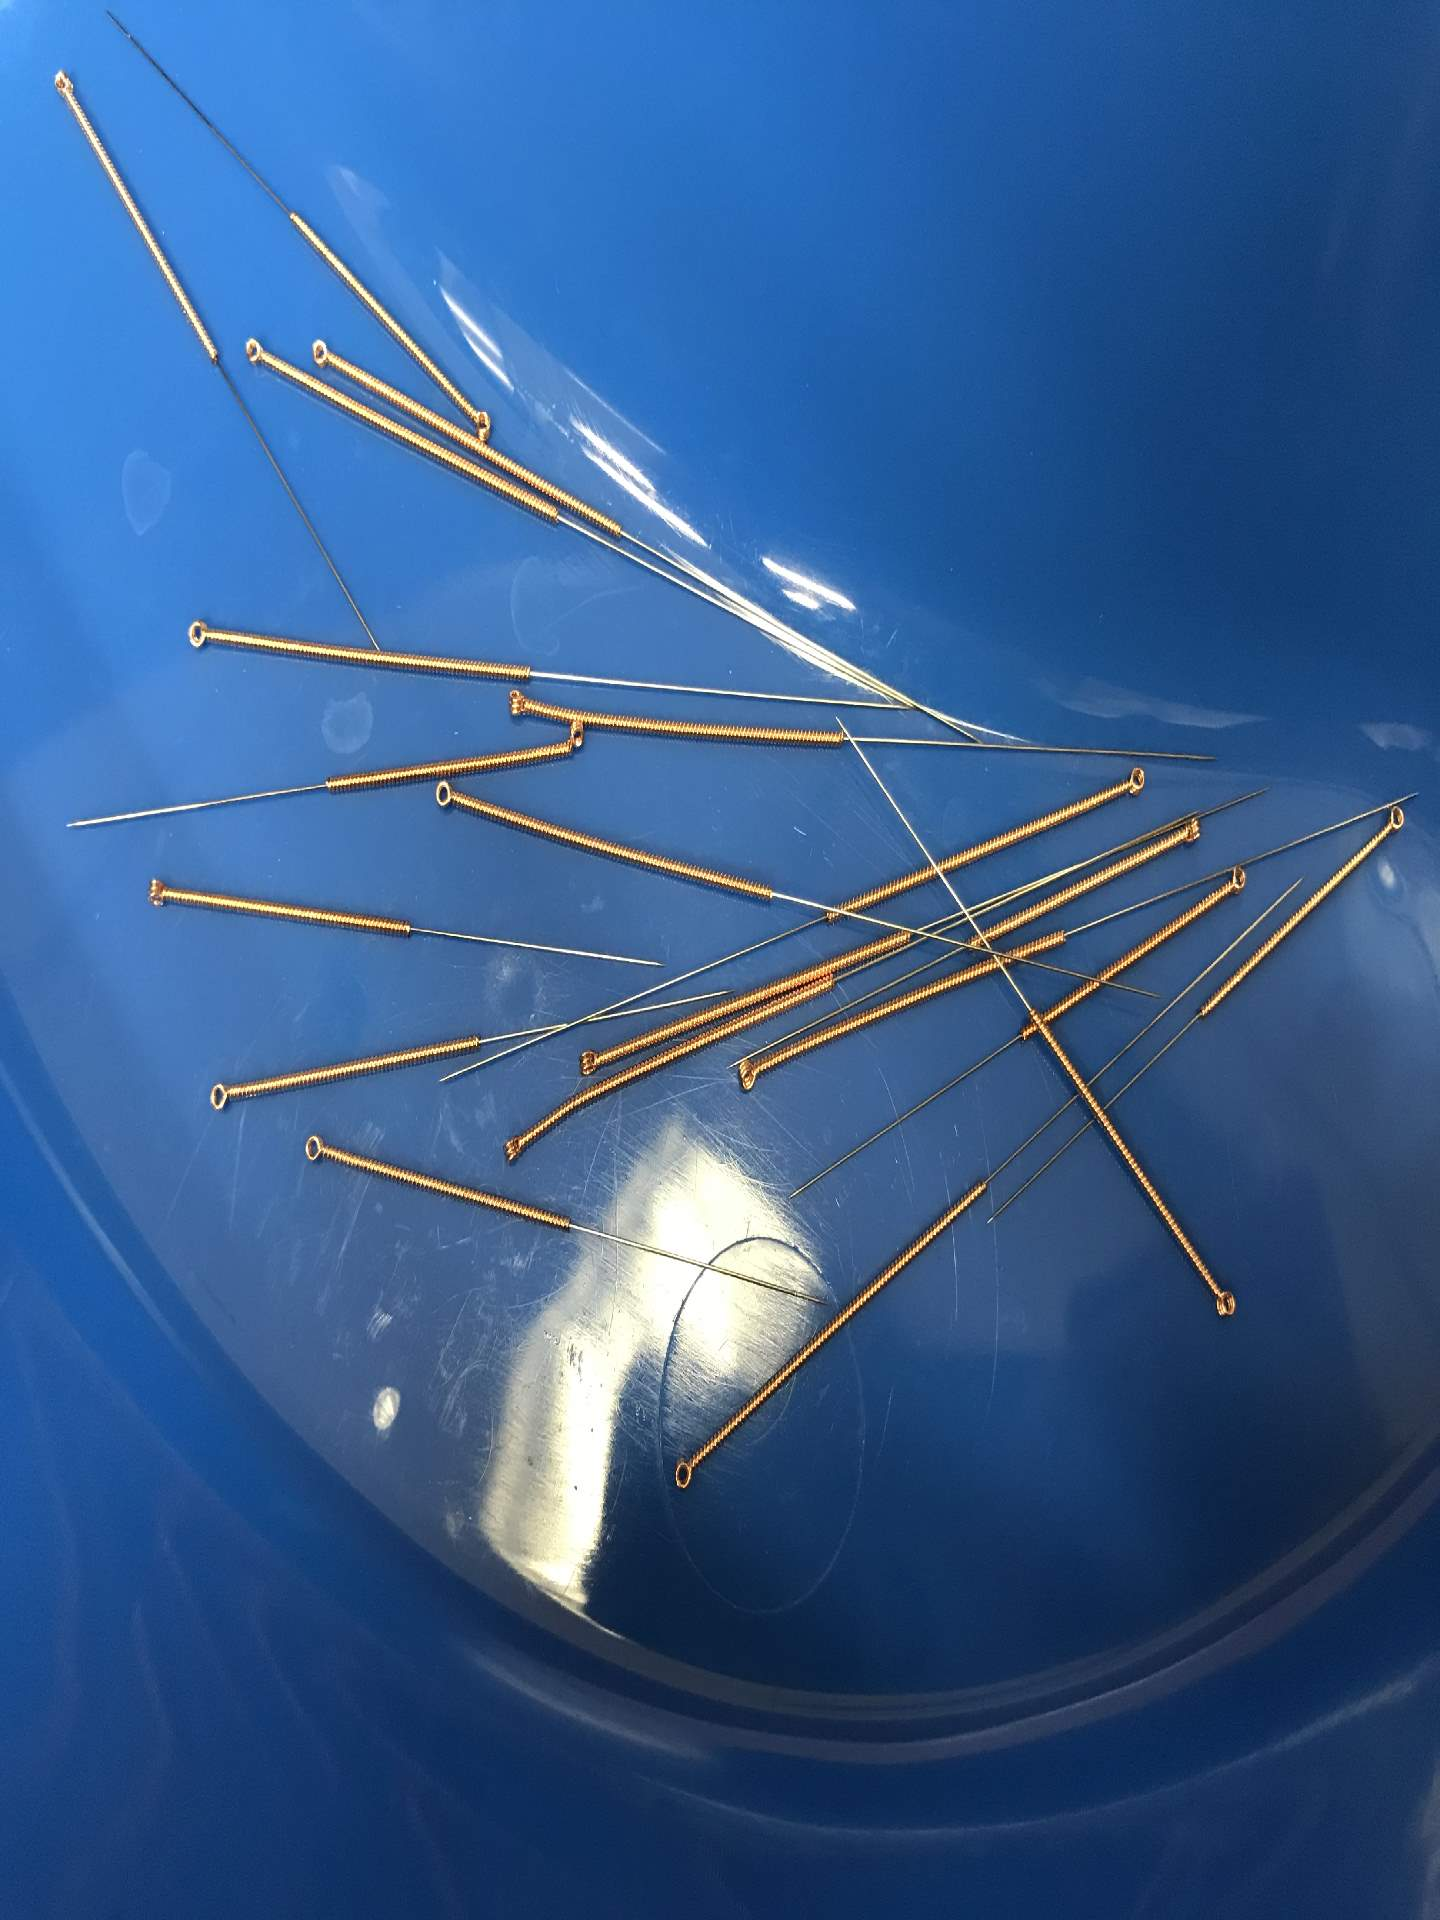needle: (1203, 1276, 1246, 1332), (198, 1073, 245, 1123), (175, 609, 219, 661), (725, 1051, 771, 1098), (39, 57, 80, 110), (293, 1123, 336, 1172), (138, 869, 178, 919), (663, 1448, 703, 1497), (427, 776, 466, 824), (1109, 760, 1154, 801), (299, 330, 340, 375), (492, 1126, 532, 1170), (569, 1040, 610, 1084), (1216, 857, 1255, 903), (234, 328, 272, 375), (552, 720, 591, 763), (1376, 797, 1413, 844), (498, 685, 538, 726), (1171, 810, 1209, 854), (464, 401, 501, 444)
